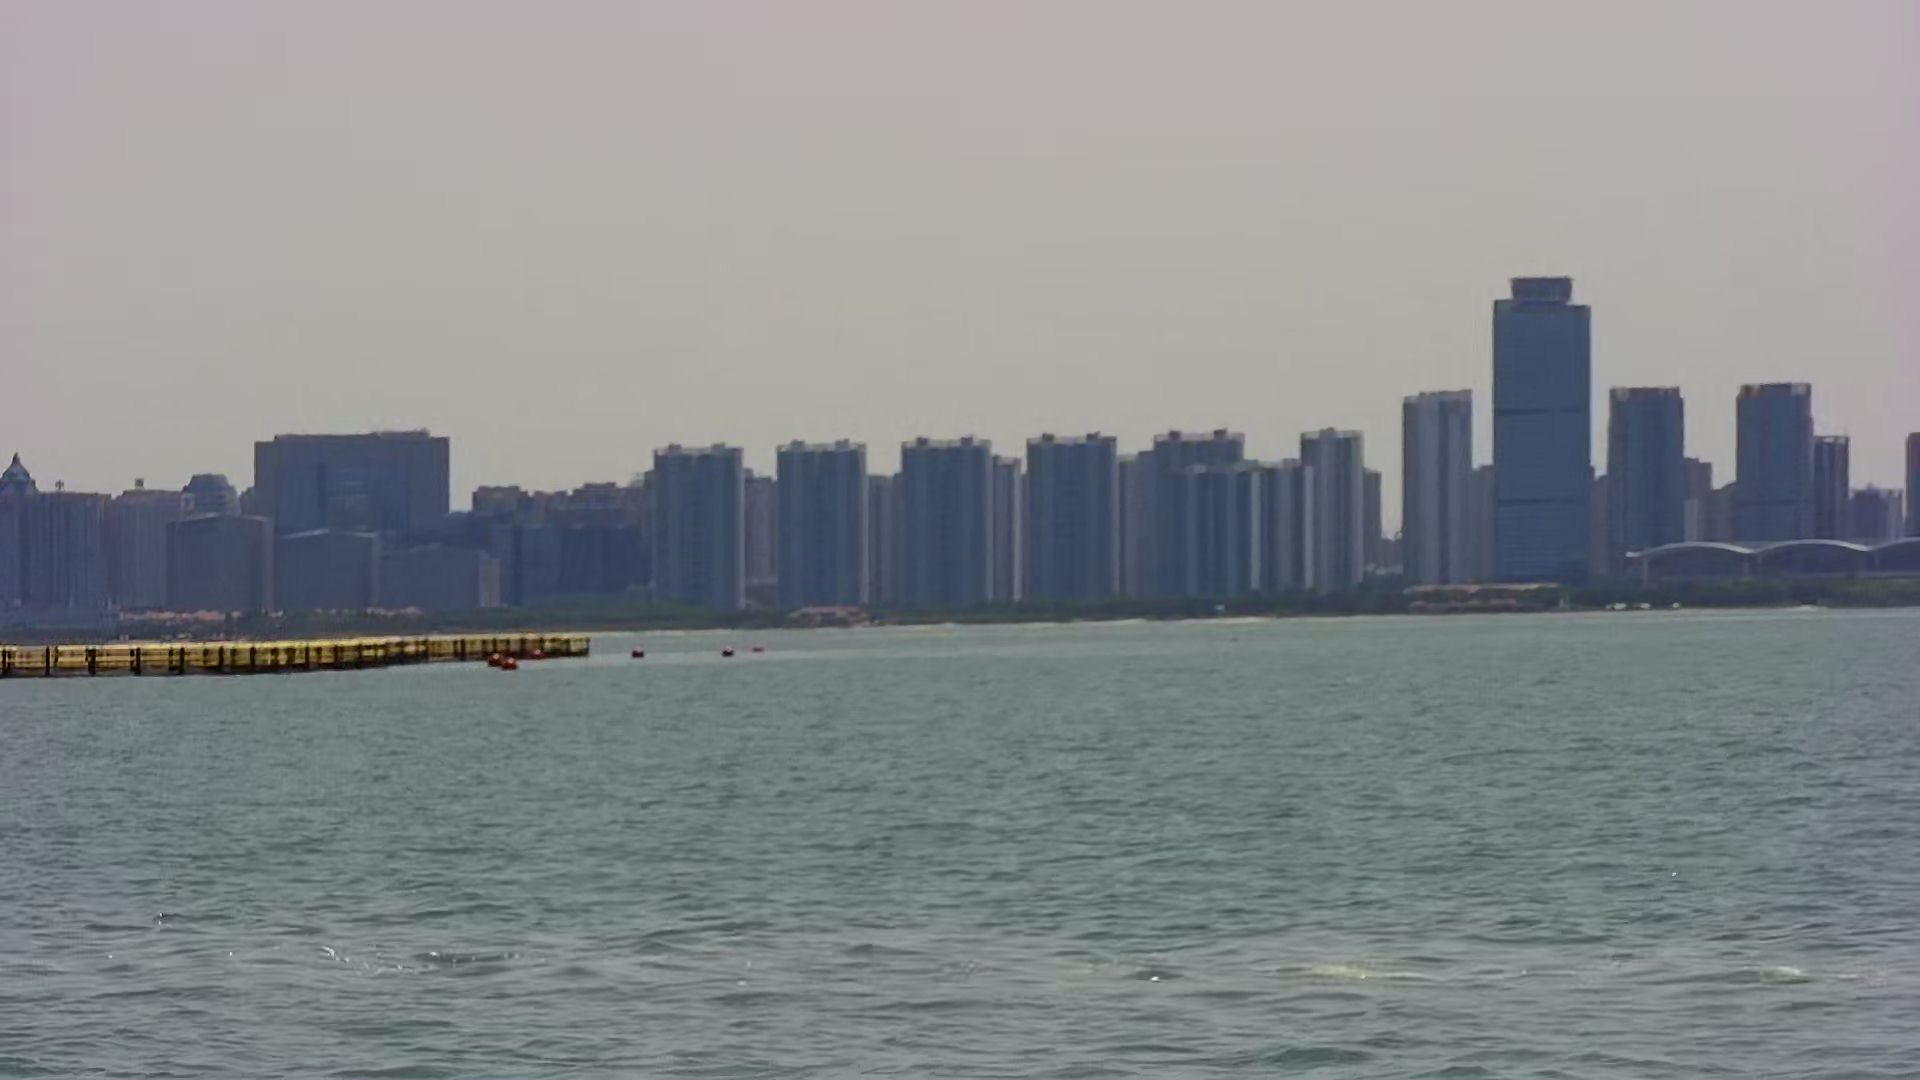platform: (1, 621, 604, 676)
